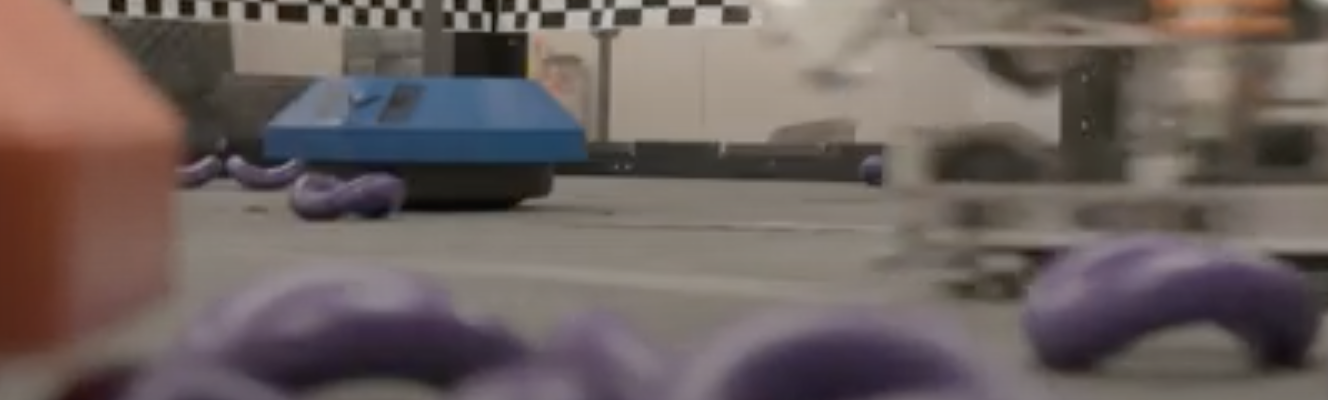ring: (1020, 236, 1323, 378), (188, 269, 528, 387), (677, 313, 993, 400), (289, 168, 406, 222), (227, 152, 304, 187), (177, 155, 224, 187), (859, 152, 886, 186)
